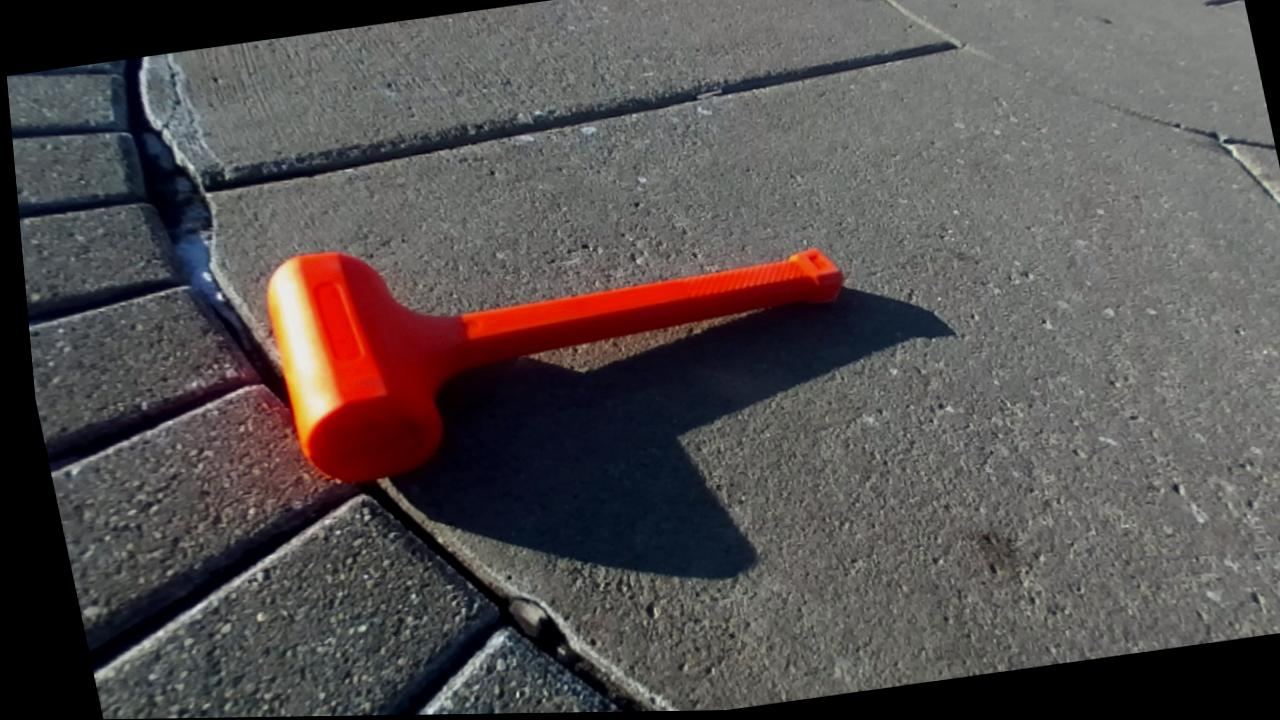mallet: (267, 249, 843, 482)
